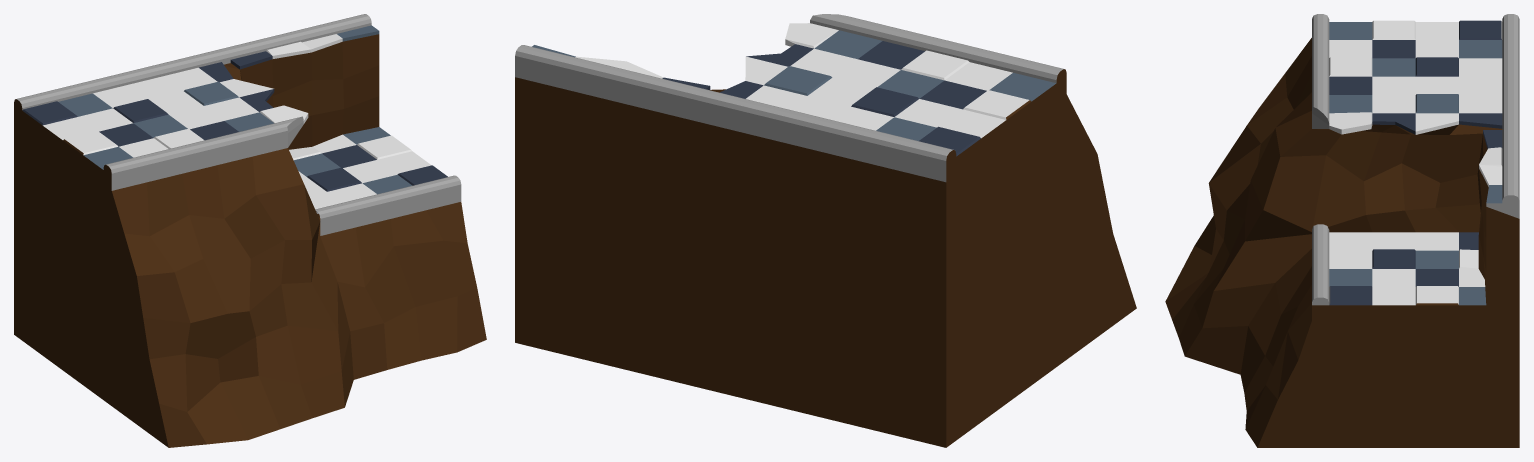
Rendered from road_breakB.fbx.
3 renders of one model, left to right at view 1: azimuth 30°, elevation 25°; view 2: azimuth 150°, elevation 25°; view 3: azimuth 270°, elevation 25°, orthographic. The views are drawn at different scales.
Parts seen in each view (by area): view 1: road_line_breakB; view 2: road_line_breakB; view 3: road_line_breakB.
Part boxes in pixels (bbox=[...]): road_line_breakB: bbox=[14, 14, 486, 447]; road_line_breakB: bbox=[515, 14, 1136, 447]; road_line_breakB: bbox=[1165, 14, 1519, 447].
Size of the model in its own units: 496 by 322 by 409.
